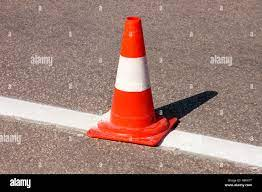obstacle: (105, 13, 169, 150)
